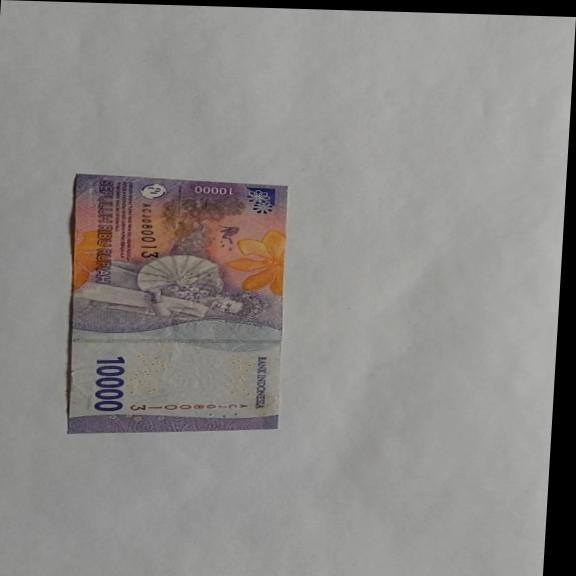Kertas: (58, 173, 294, 440)
